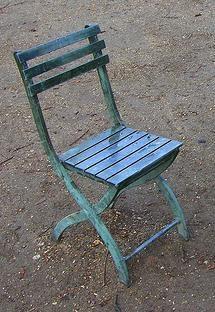obstacle: (14, 24, 188, 284)
